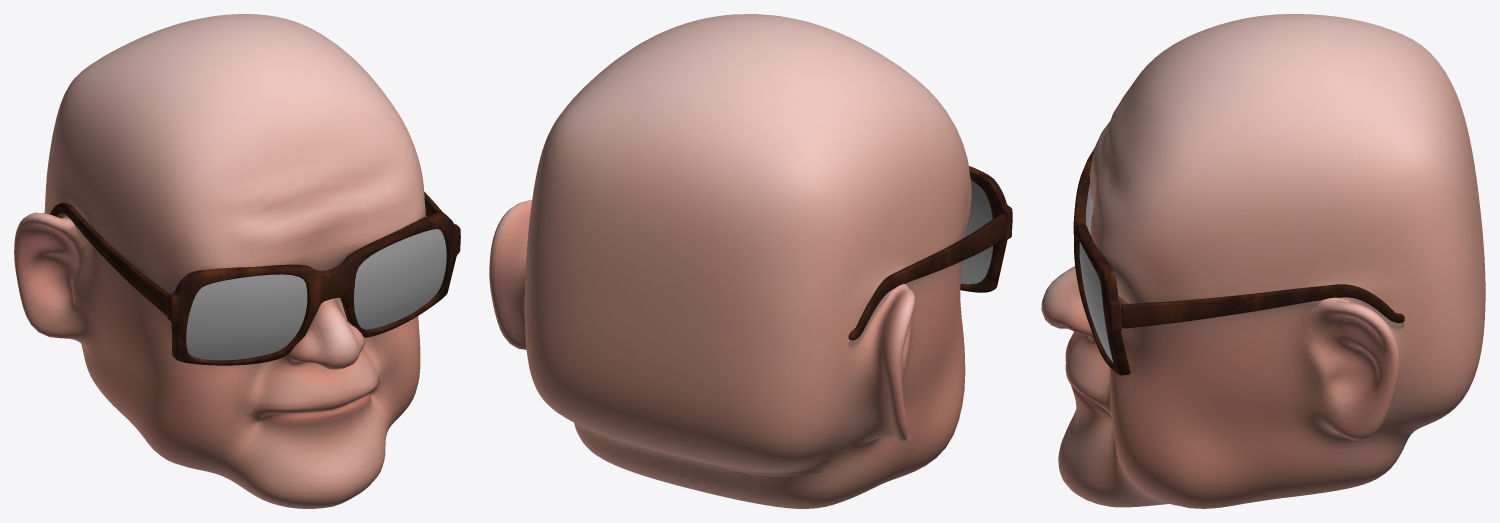
Rendered from UKK_Head.fbx.
3 views of the same model, side by side, from view 1: azimuth 30°, elevation 25°; view 2: azimuth 150°, elevation 25°; view 3: azimuth 270°, elevation 25° (orthographic). The views are drawn at different scales.
Visible parts, largest first — view 1: UKK_Head, UKK_Glasses_Glass, UKK_Glasses_Frame; view 2: UKK_Head, UKK_Glasses_Frame, UKK_Glasses_Glass; view 3: UKK_Head, UKK_Glasses_Frame, UKK_Glasses_Glass.
Boxes of the visible parts, x1,y1,x2,y2 form: UKK_Head: (14, 14, 425, 508); UKK_Glasses_Glass: (186, 229, 446, 360); UKK_Glasses_Frame: (50, 192, 460, 365); UKK_Head: (489, 14, 971, 508); UKK_Glasses_Frame: (848, 166, 1012, 340); UKK_Glasses_Glass: (960, 180, 992, 284); UKK_Head: (1041, 14, 1485, 508); UKK_Glasses_Frame: (1073, 147, 1404, 375); UKK_Glasses_Glass: (1079, 184, 1113, 362).
Size of the model in its own units: 3.54 by 3.94 by 3.47.
